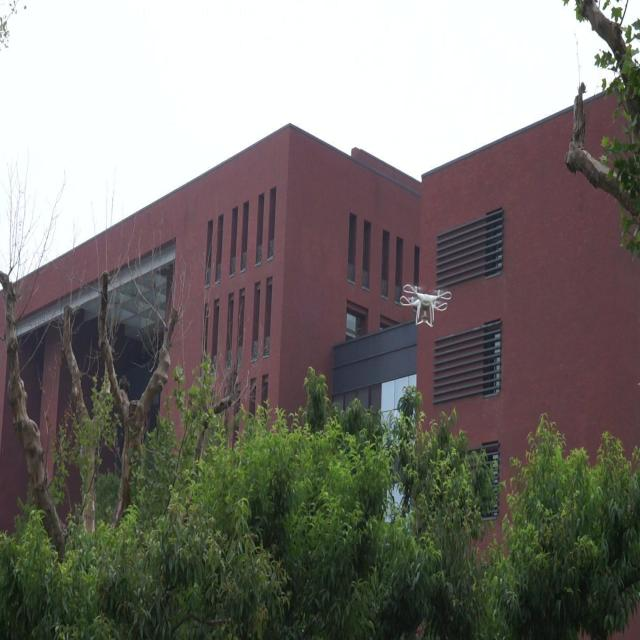UAV: (400, 284, 452, 327)
